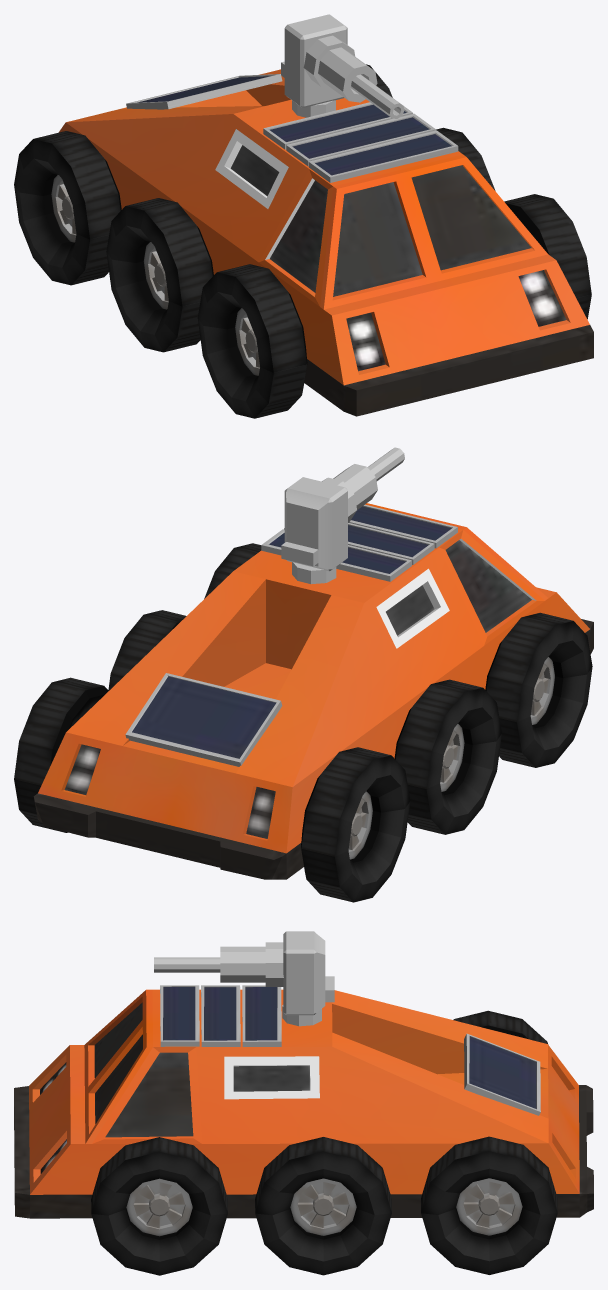
File: Truck04.fbx
The picture shows the model from 3 angles, top to bottom: view 1: azimuth 30°, elevation 25°; view 2: azimuth 150°, elevation 25°; view 3: azimuth 270°, elevation 25°; orthographic projection. The views are drawn at different scales.
Visible parts, largest first — view 1: Truck.003, Missile; view 2: Truck.003, Missile; view 3: Truck.003, Missile.
Boxes of the visible parts, x1=… form: Truck.003: x1=14, y1=64, x2=593, y2=418; Missile: x1=281, y1=14, x2=404, y2=118; Truck.003: x1=14, y1=503, x2=593, y2=902; Missile: x1=281, y1=447, x2=404, y2=584; Truck.003: x1=14, y1=985, x2=593, y2=1275; Missile: x1=154, y1=931, x2=334, y2=1026.
Bounding box in the file's own units: 365 × 311 × 619.
